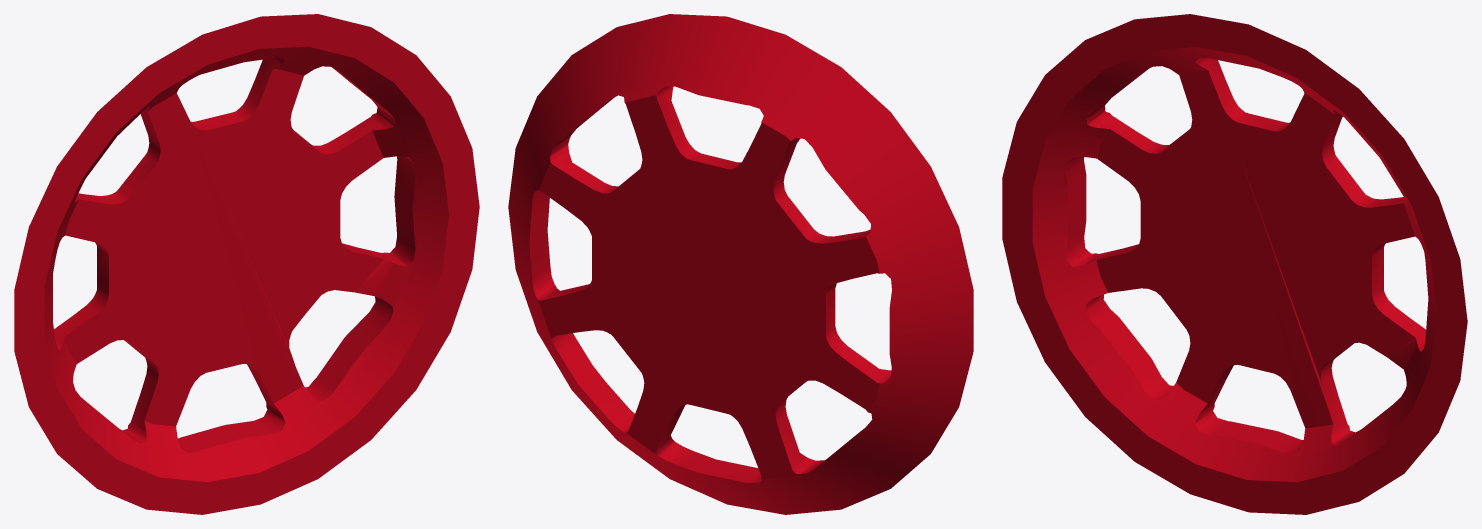
3 views of the same model, side by side, from view 1: azimuth 30°, elevation 25°; view 2: azimuth 150°, elevation 25°; view 3: azimuth 330°, elevation 25° (orthographic).
Visible parts, largest first — view 1: Cylinder16; view 2: Cylinder16; view 3: Cylinder16.
Part boxes in pixels (x1,y1,x2,y2): Cylinder16: [14, 14, 479, 514]; Cylinder16: [508, 14, 973, 514]; Cylinder16: [1002, 14, 1467, 514].
Size of the model in its own units: 37.58 by 4.54 by 37.65.
